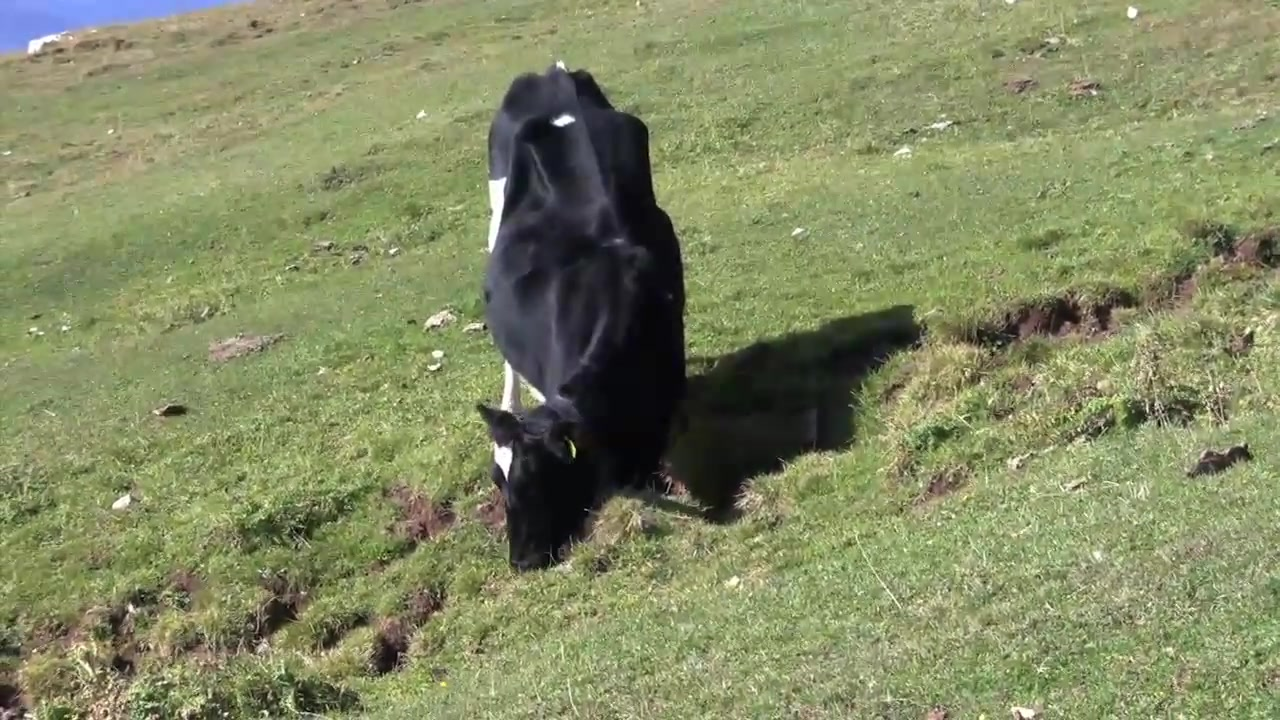cow: (468, 68, 690, 577)
